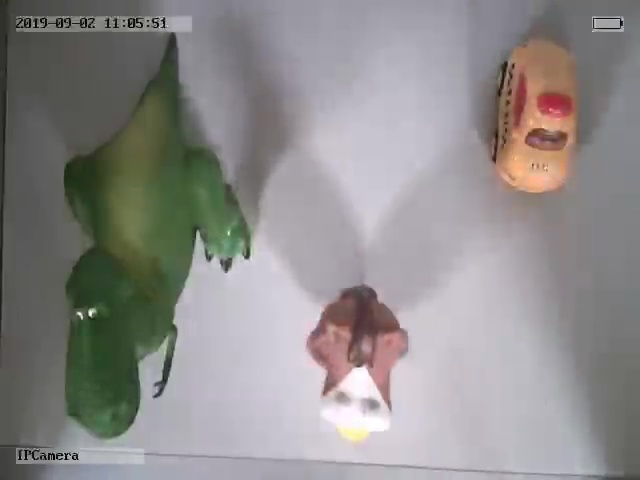car: (488, 32, 579, 197)
horse: (307, 285, 411, 441)
rex: (63, 53, 250, 439)
